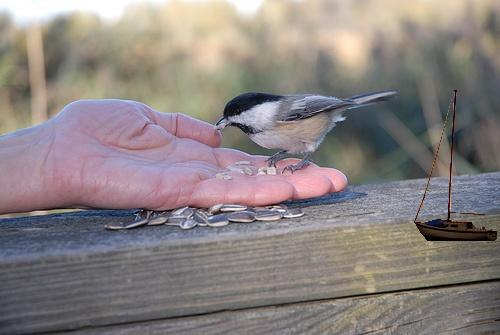tampered: (415, 91, 497, 241)
